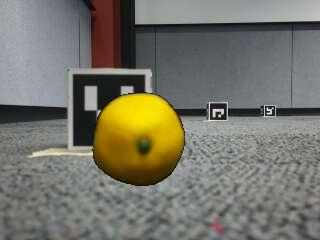lemon: (95, 93, 185, 185)
